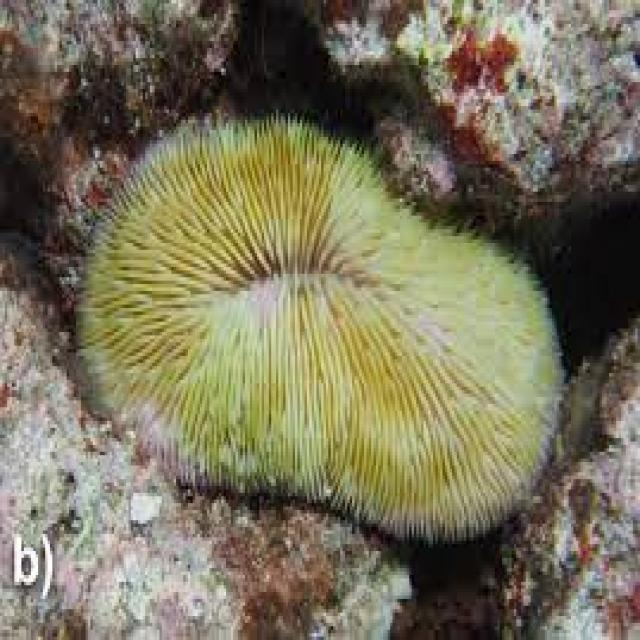Healthy Coral: (58, 102, 573, 539)
